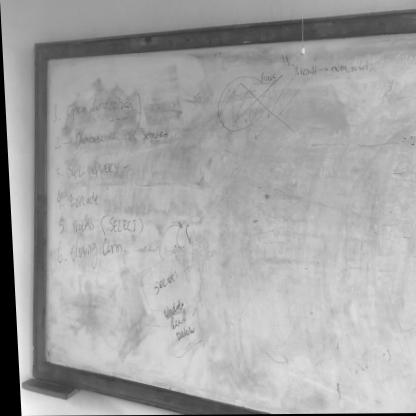Handwritten text: (140, 262, 198, 350), (60, 95, 142, 126), (62, 211, 143, 242), (57, 151, 123, 186), (62, 120, 125, 150), (60, 238, 121, 264), (64, 186, 109, 211)
Whiteboard: (35, 25, 416, 411)
